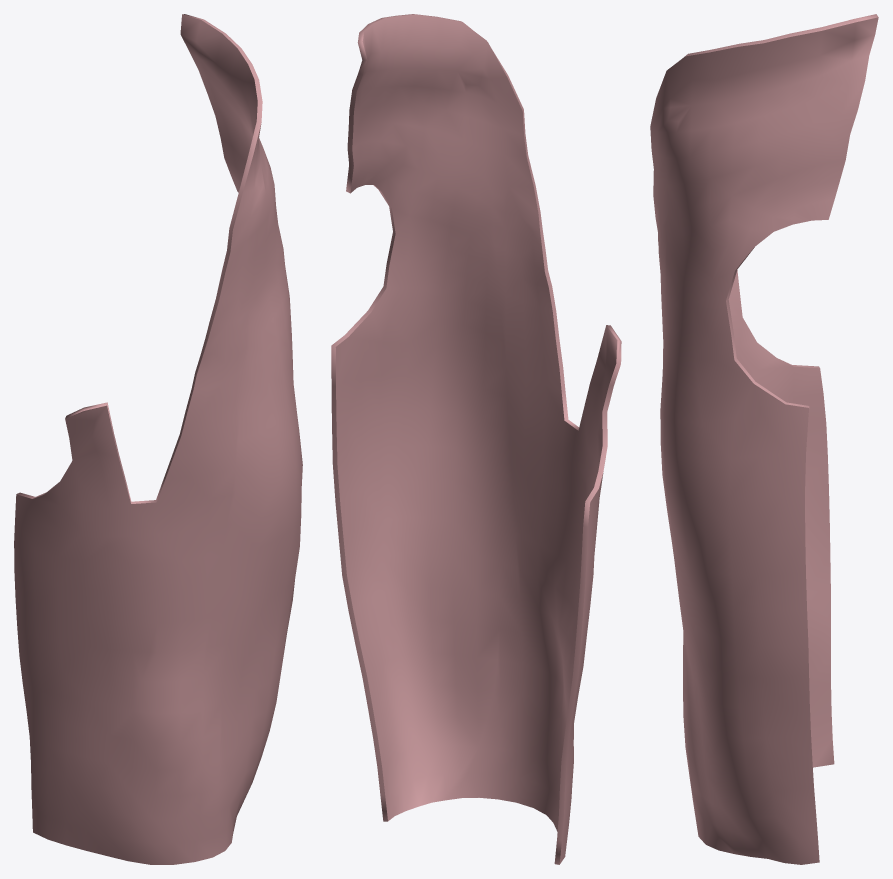
3 renders of one model, left to right at view 1: azimuth 30°, elevation 25°; view 2: azimuth 150°, elevation 25°; view 3: azimuth 270°, elevation 25°, orthographic. The views are drawn at different scales.
Visible parts, largest first — view 1: ZA_27fc864c1cbc3bec; view 2: ZA_27fc864c1cbc3bec; view 3: ZA_27fc864c1cbc3bec.
Boxes of the visible parts, x1,y1,x2,y2 form: ZA_27fc864c1cbc3bec: [14, 14, 302, 864]; ZA_27fc864c1cbc3bec: [331, 14, 621, 864]; ZA_27fc864c1cbc3bec: [650, 14, 878, 864].
Bounding box in the file's own units: 0.1783 × 0.5162 × 0.1258.
